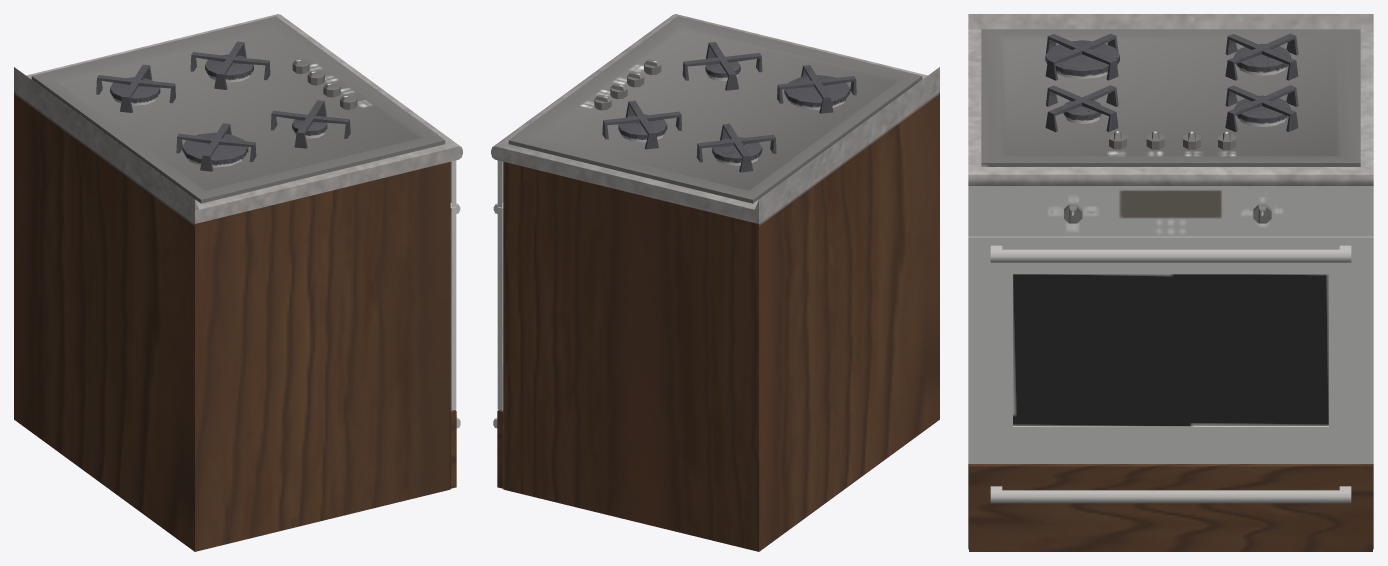
Rendered from CabinetWithStoveAndOven.obj.
The picture shows the model from 3 angles, left to right: view 1: azimuth 30°, elevation 25°; view 2: azimuth 150°, elevation 25°; view 3: azimuth 270°, elevation 25°; orthographic projection. The views are drawn at different scales.
Parts seen in each view (by area): view 1: KitchenCabinetWithStoveAndOven; view 2: KitchenCabinetWithStoveAndOven; view 3: KitchenCabinetWithStoveAndOven.
Part boxes in pixels (box(x1,y1,x2,y2)): KitchenCabinetWithStoveAndOven: box(14, 14, 462, 551); KitchenCabinetWithStoveAndOven: box(491, 14, 939, 551); KitchenCabinetWithStoveAndOven: box(968, 14, 1373, 551).
Size of the model in its own units: 0.7043 by 0.8728 by 0.8.
